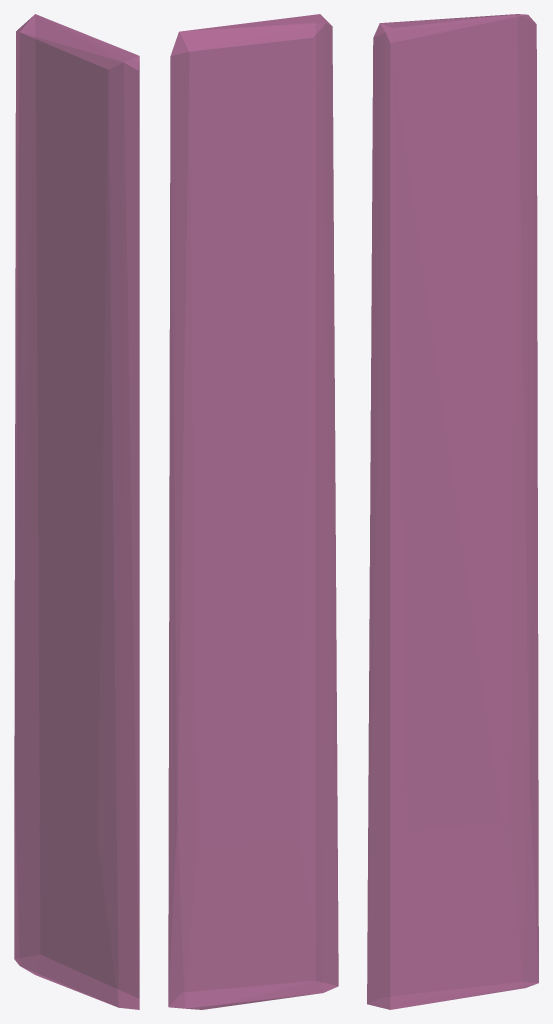
3 views of the same model, side by side, from view 1: azimuth 90°, elevation 25°; view 2: azimuth 150°, elevation 25°; view 3: azimuth 330°, elevation 25° (orthographic). The views are drawn at different scales.
Visible parts, largest first — view 1: Shape_IndexedFaceSet.007_Shape_IndexedFaceSet.8606; view 2: Shape_IndexedFaceSet.007_Shape_IndexedFaceSet.8606; view 3: Shape_IndexedFaceSet.007_Shape_IndexedFaceSet.8606.
Boxes of the visible parts, x1=… form: Shape_IndexedFaceSet.007_Shape_IndexedFaceSet.8606: x1=14, y1=14, x2=139, y2=1009; Shape_IndexedFaceSet.007_Shape_IndexedFaceSet.8606: x1=168, y1=14, x2=338, y2=1009; Shape_IndexedFaceSet.007_Shape_IndexedFaceSet.8606: x1=367, y1=14, x2=538, y2=1009.
Size of the model in its own units: 0.1152 by 1.01 by 0.1202.
